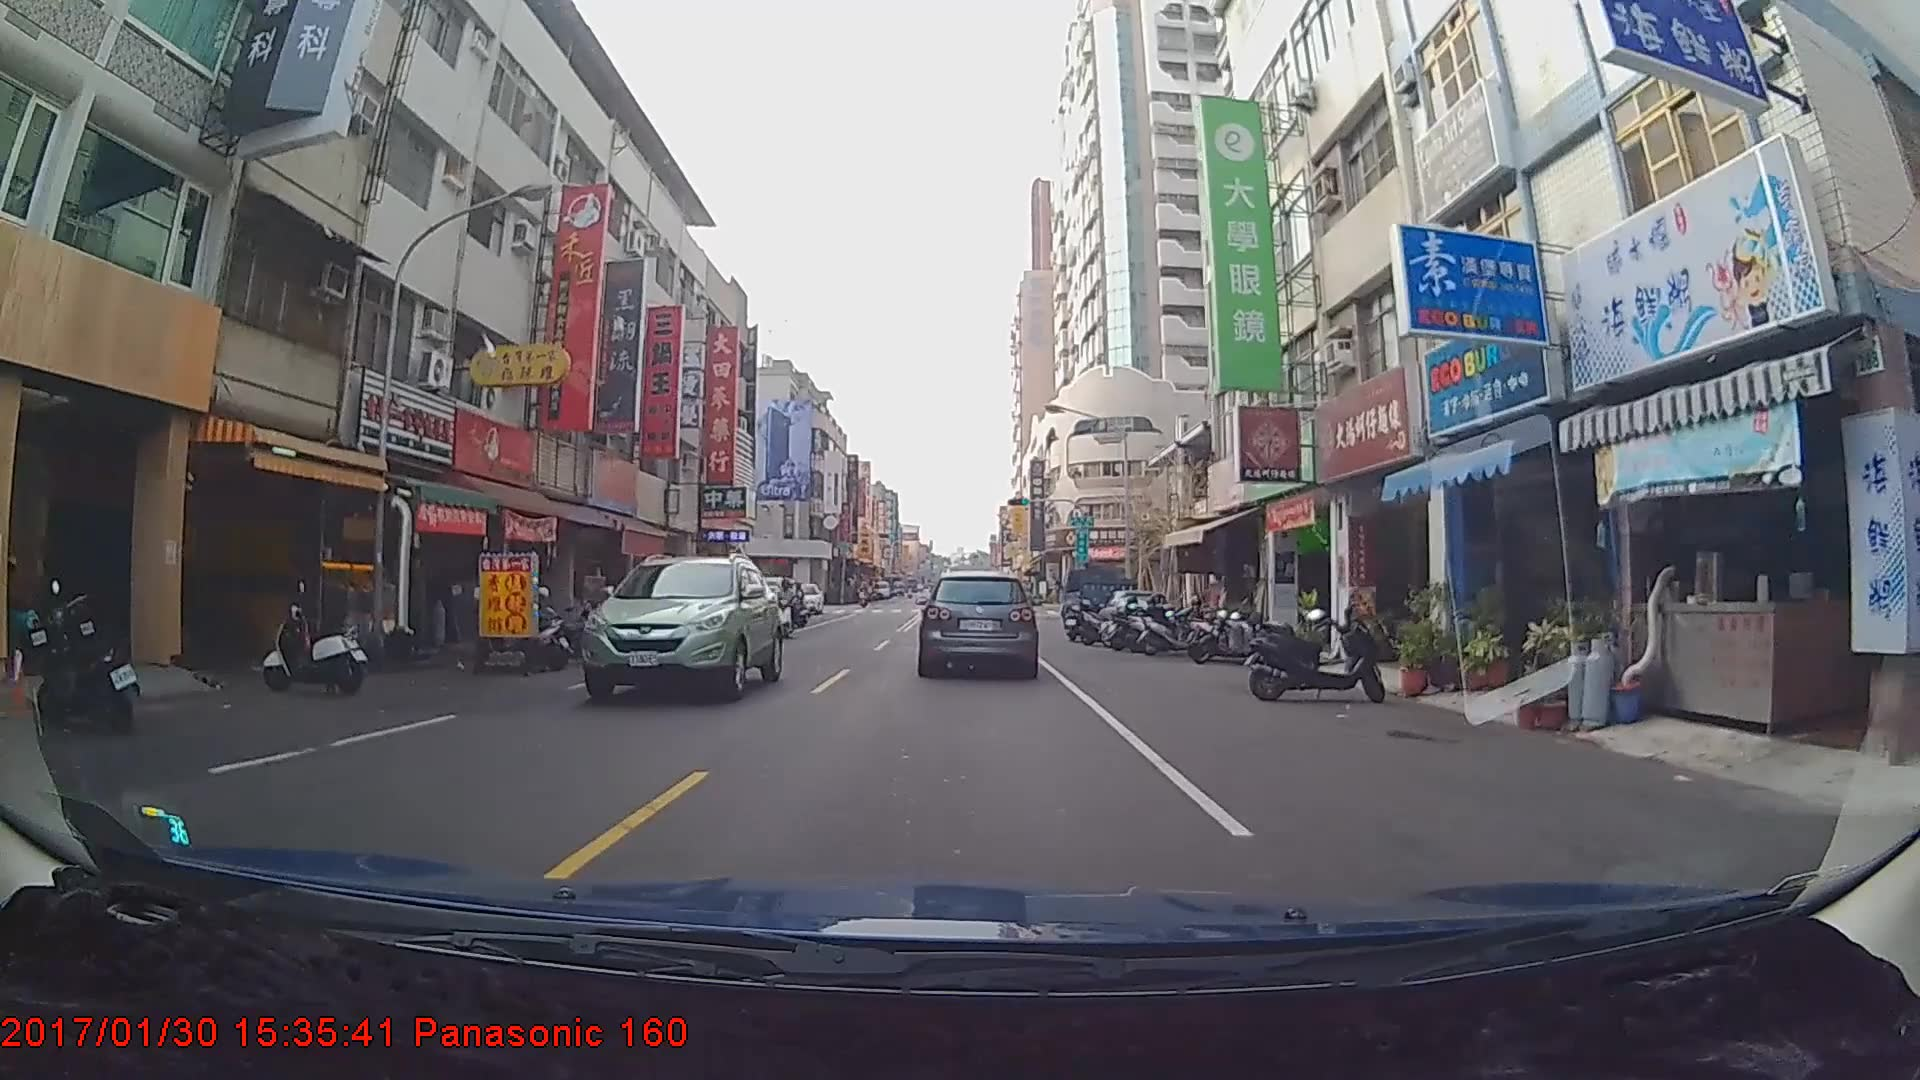vehicle: (582, 551, 783, 702), (919, 571, 1036, 675), (1062, 567, 1142, 633)
